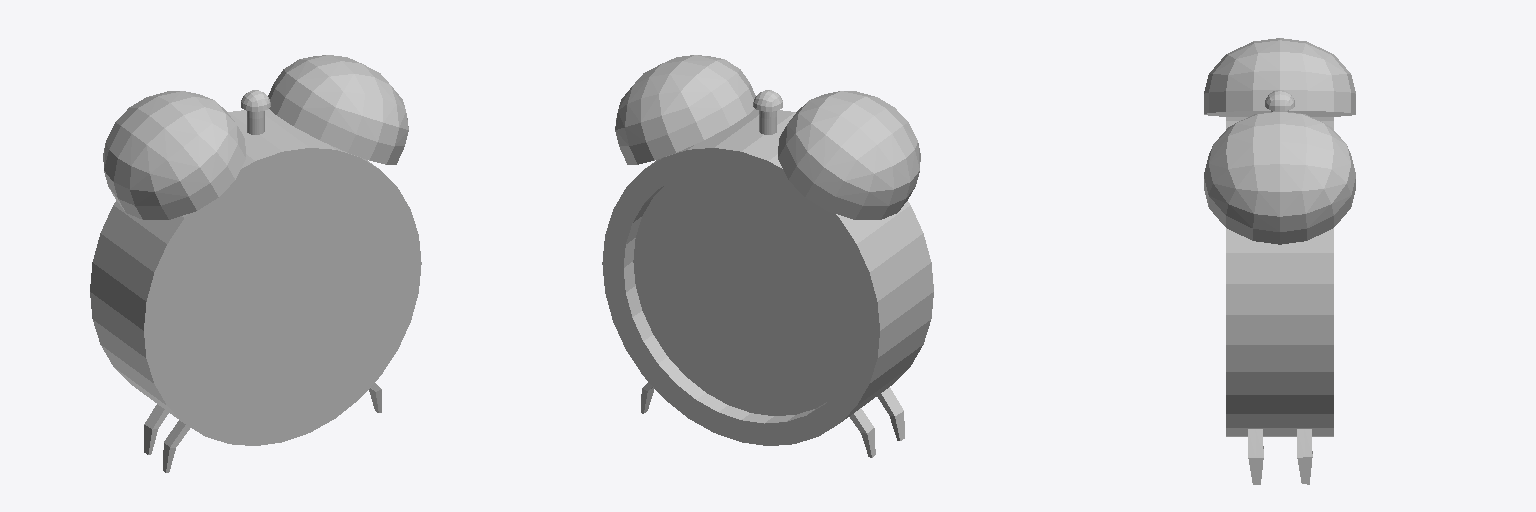
The model's file is Clock._Model.obj.
3 renders of one model, left to right at view 1: azimuth 30°, elevation 25°; view 2: azimuth 150°, elevation 25°; view 3: azimuth 270°, elevation 25°, orthographic.
Visible parts, largest first — view 1: Cylinder, Roundcube.001, Roundcube.002, Cube.002, Cube.003; view 2: Cylinder, Roundcube.001, Roundcube.002, Cube.003, Cube.002; view 3: Cylinder, Roundcube.002, Roundcube.001, Cube, Cube.001.
Boxes of the visible parts, box(x1,y1,x2,y2) form: Cylinder: box(90, 109, 421, 445); Roundcube.001: box(103, 91, 245, 219); Roundcube.002: box(268, 55, 408, 164); Cube.002: box(144, 404, 168, 454); Cube.003: box(163, 420, 189, 472); Cylinder: box(602, 109, 933, 445); Roundcube.001: box(778, 91, 920, 219); Roundcube.002: box(615, 55, 755, 164); Cube.003: box(877, 387, 904, 440); Cube.002: box(850, 408, 875, 457); Cylinder: box(1226, 117, 1333, 436); Roundcube.002: box(1204, 111, 1355, 244); Roundcube.001: box(1204, 38, 1355, 116); Cube: box(1248, 429, 1263, 484); Cube.001: box(1297, 429, 1312, 484).
Bounding box in the file's own units: 2.05 × 2.4 × 0.9513.